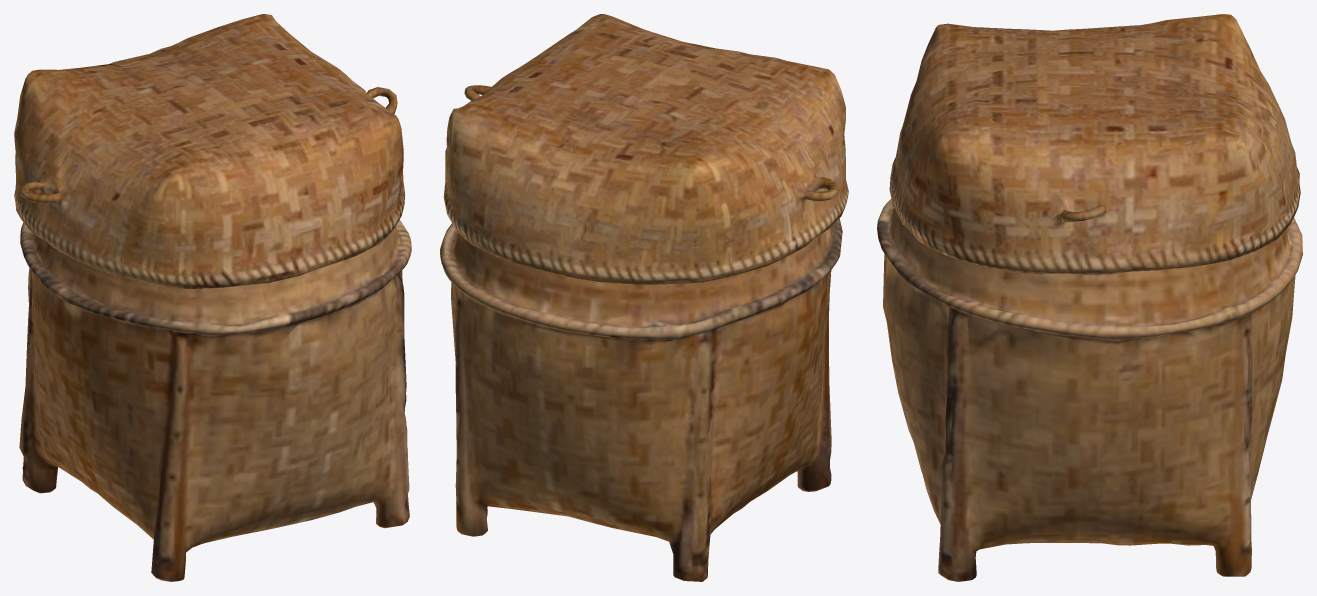
Rendered from willow-basket.glb.
The picture shows the model from 3 angles, left to right: view 1: azimuth 30°, elevation 25°; view 2: azimuth 150°, elevation 25°; view 3: azimuth 270°, elevation 25°; orthographic projection. The views are drawn at different scales.
Parts seen in each view (by area): view 1: wicker_basket_02_base; view 2: wicker_basket_02_base; view 3: wicker_basket_02_base.
Part boxes in pixels (x1,y1,x2,y2): wicker_basket_02_base: (14,14,411,581); wicker_basket_02_base: (440,14,848,581); wicker_basket_02_base: (877,14,1302,581).
Bounding box in the file's own units: 0.2753 × 0.3 × 0.2587.
1 material, 1 textured.
